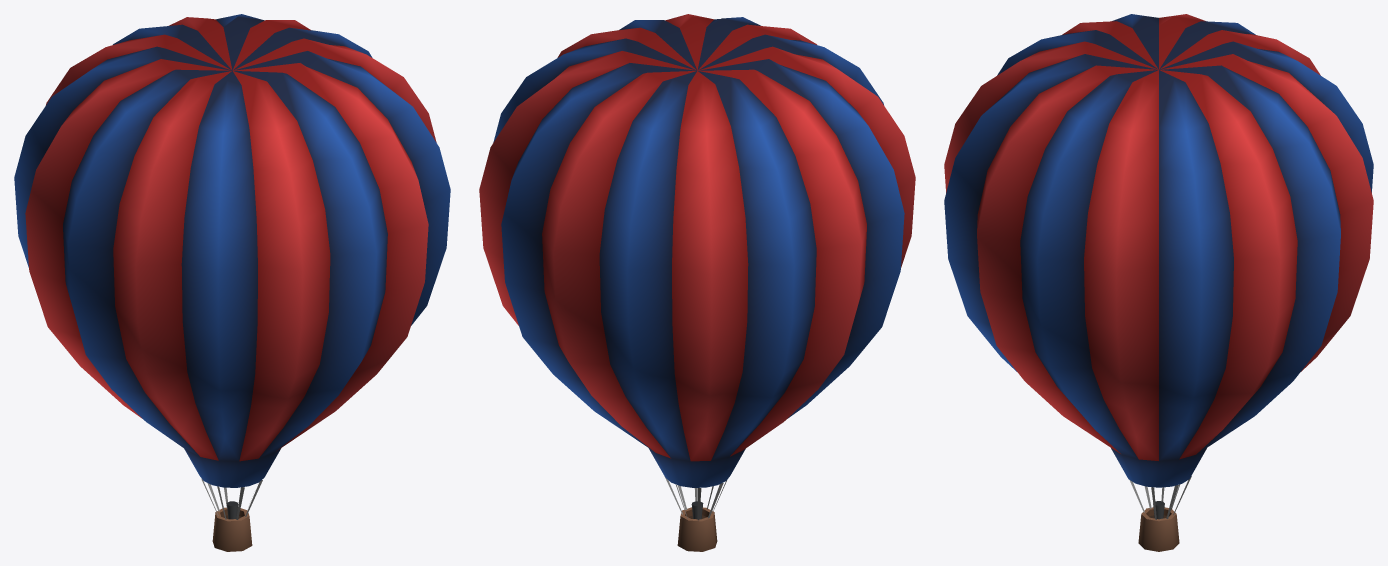
Rendered from vehicles-aircraft-hot-air-balloon_v2.fbx.
3 renders of one model, left to right at view 1: azimuth 30°, elevation 25°; view 2: azimuth 150°, elevation 25°; view 3: azimuth 270°, elevation 25°, orthographic.
Visible parts, largest first — view 1: Hot Air Balloon_v2; view 2: Hot Air Balloon_v2; view 3: Hot Air Balloon_v2.
Part boxes in pixels (x1,y1,x2,y2): Hot Air Balloon_v2: [14, 14, 450, 551]; Hot Air Balloon_v2: [479, 14, 915, 551]; Hot Air Balloon_v2: [944, 14, 1373, 551].
Bounding box in the file's own units: 19.42 × 25 × 19.42.
